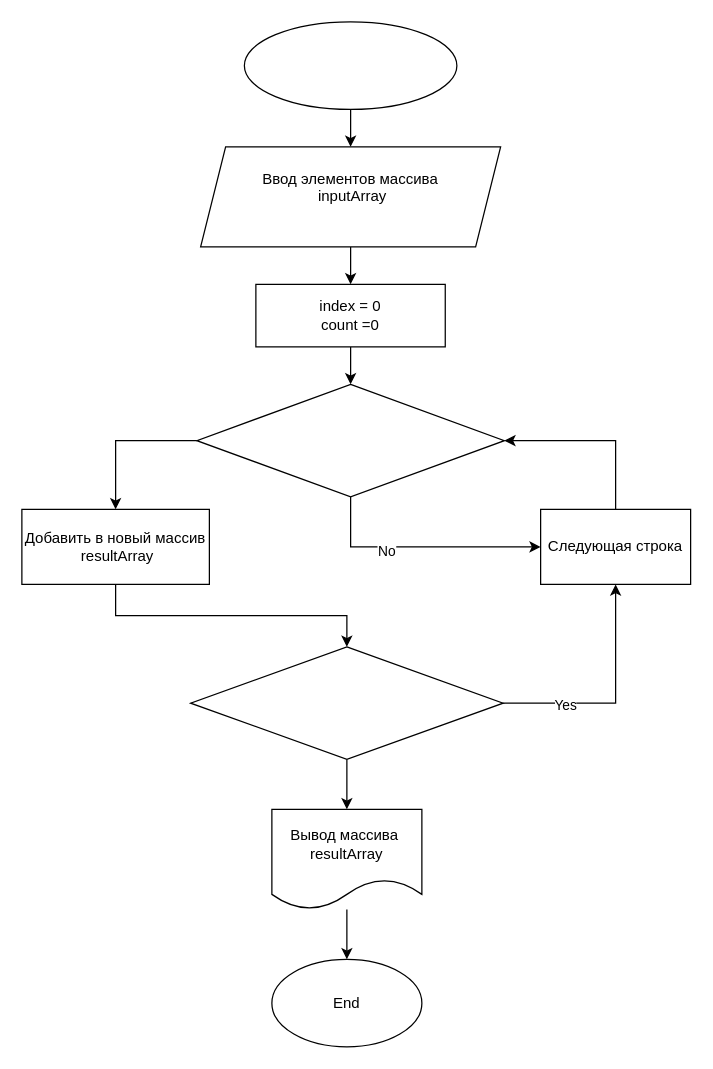
The diagram is 713 pixels wide and 1069 high, and some of its shapes have lost their labels. The shapes that lost their labels are listed below. From the top down, each one's centre as x and y in pixels, then its label:
(350,65): Start
(350,440): Длина строки <= 3 ?
(346,702): Есть еще строки?
